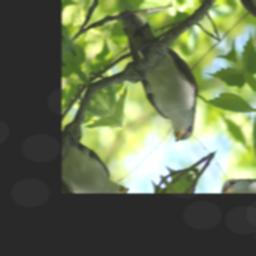Cuckoo: (95, 0, 222, 148)
